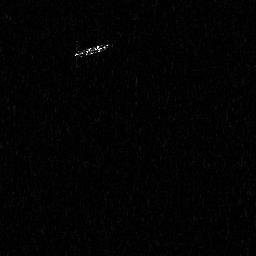ship: (73, 40, 112, 68)
